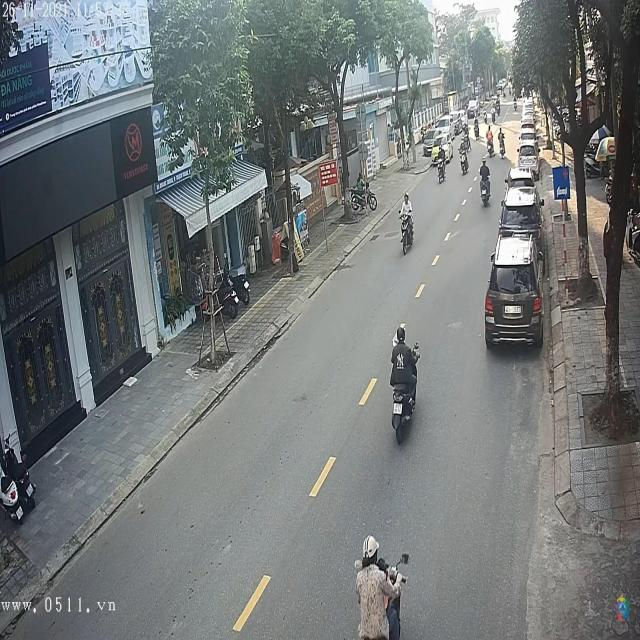car: (486, 240, 542, 349), (499, 188, 543, 238)
motorcycle: (389, 339, 418, 439), (398, 208, 414, 254), (479, 174, 493, 205), (436, 153, 448, 184), (459, 143, 469, 179)
